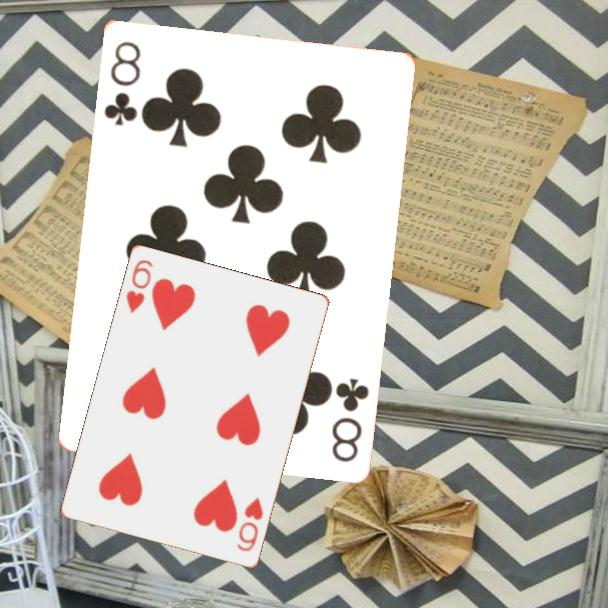c08: (328, 373, 372, 465), (100, 37, 144, 128)
h06: (233, 494, 266, 555), (123, 256, 156, 317)
